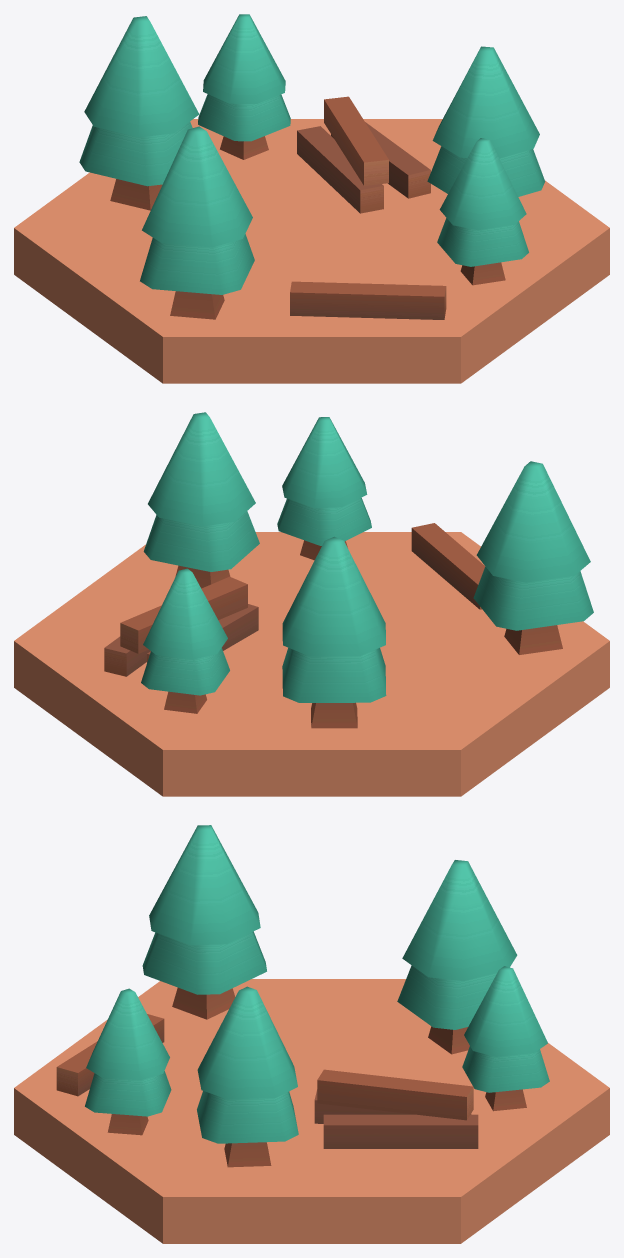
The model's file is dirt-lumber.glb.
The picture shows the model from 3 angles, top to bottom: view 1: azimuth 30°, elevation 25°; view 2: azimuth 150°, elevation 25°; view 3: azimuth 270°, elevation 25°; orthographic projection.
Visible parts, largest first — view 1: dirt-lumber; view 2: dirt-lumber; view 3: dirt-lumber.
Part boxes in pixels (x1=…): dirt-lumber: x1=14, y1=14, x2=609, y2=383; dirt-lumber: x1=14, y1=412, x2=609, y2=796; dirt-lumber: x1=14, y1=825, x2=609, y2=1243.
Size of the model in its own units: 1 by 0.48 by 1.15.
1 material, 1 textured.
